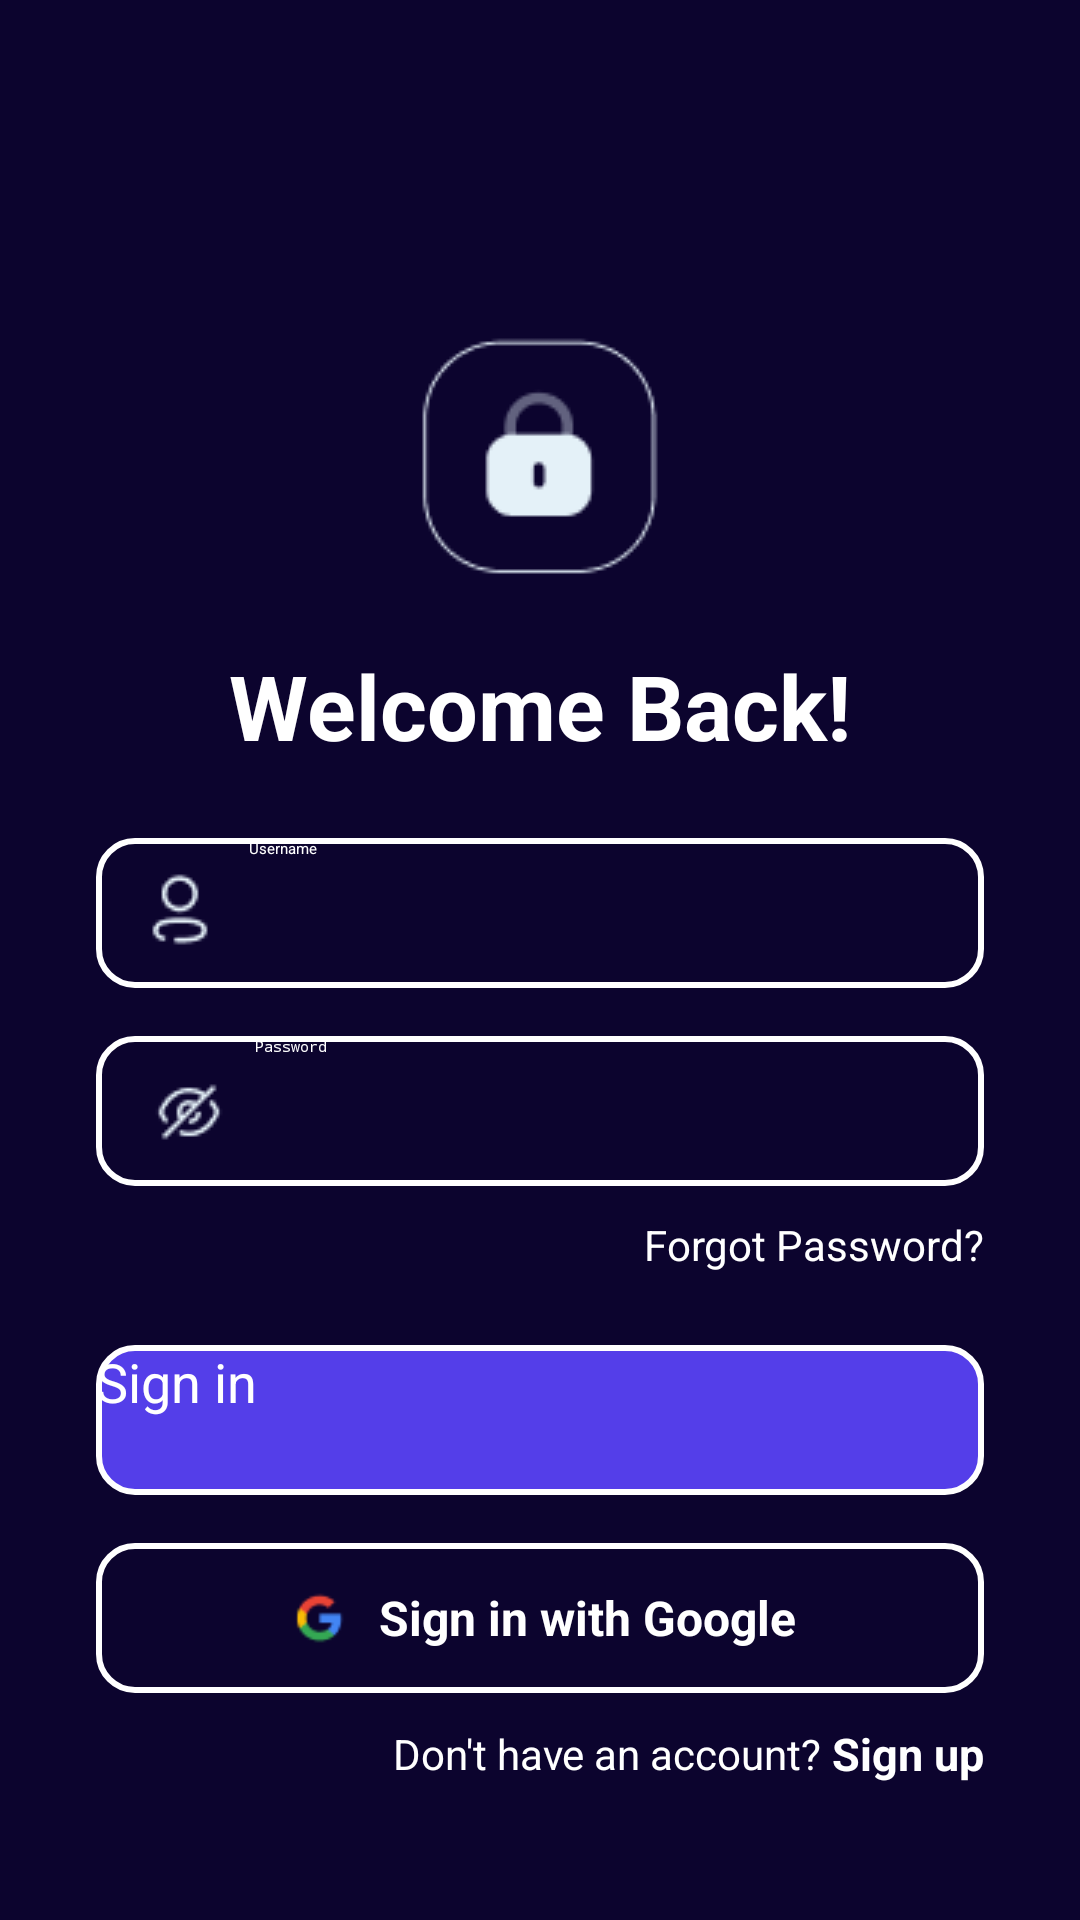

Locate icon controls on the screen. Image size 1080 × 1920, boxes as (x1, y1, x2, y2).
lock: (422, 339, 658, 574)
